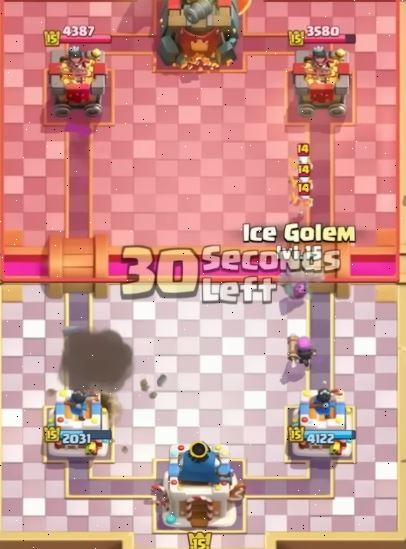ELarry: (292, 182, 312, 213), (292, 166, 311, 188), (297, 144, 311, 170)
EnemyPrincessTower: (291, 45, 351, 116), (48, 45, 106, 115)
OFirecrack: (281, 335, 316, 383)
OwnKingTower: (159, 441, 243, 527)
OwnPrincessTower: (287, 390, 355, 460), (43, 390, 111, 458)
